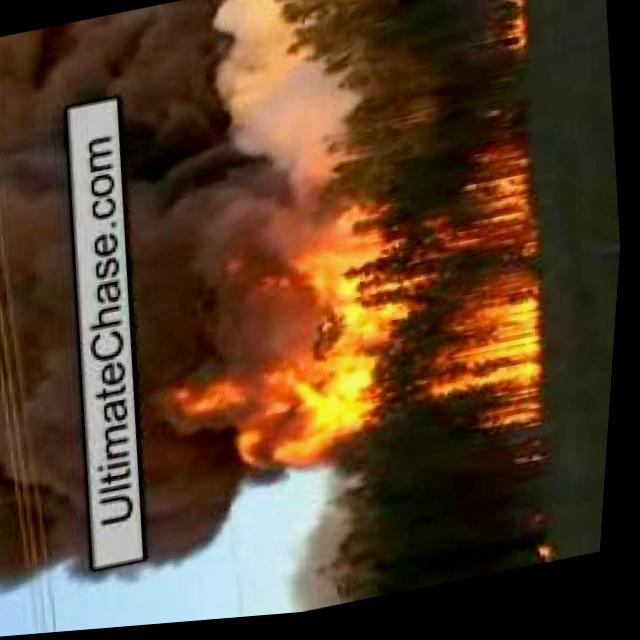Fire: (173, 144, 563, 491), (91, 1, 239, 578), (0, 21, 127, 599), (489, 0, 535, 65)
